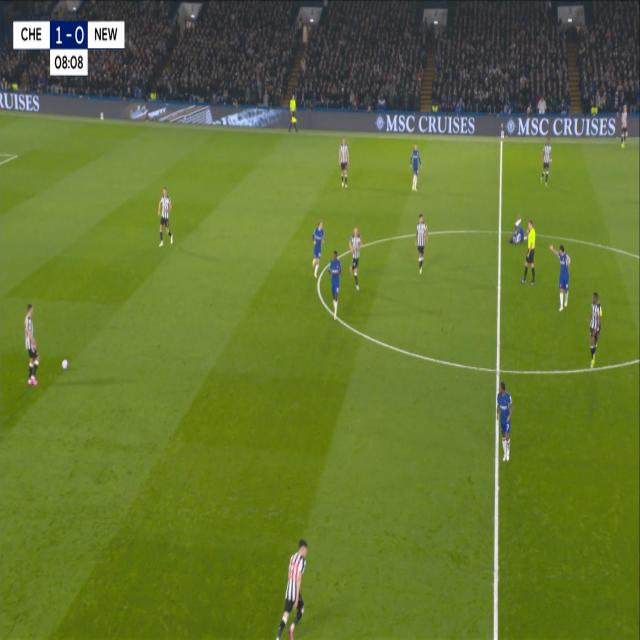Ball: (61, 357, 68, 370)
Chelsea: (547, 236, 573, 315), (494, 376, 515, 464), (326, 245, 344, 323), (309, 215, 327, 280), (407, 138, 423, 198)
New castle: (274, 534, 310, 638), (22, 299, 42, 391), (585, 286, 604, 372), (155, 182, 175, 256), (413, 208, 430, 278), (348, 222, 363, 298), (539, 132, 554, 194), (338, 132, 349, 194)
Refree: (520, 214, 538, 288)
